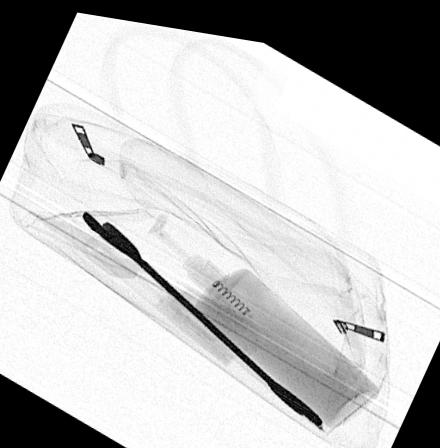Wrench: (82, 204, 323, 421)
